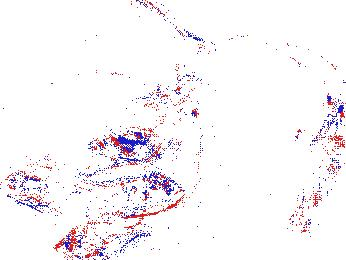X-ray fish: (58, 158, 187, 218), (53, 215, 151, 260), (1, 163, 88, 212)
glassfish: (124, 1, 212, 67)
siberian prawn: (16, 75, 199, 156), (290, 83, 346, 233)
